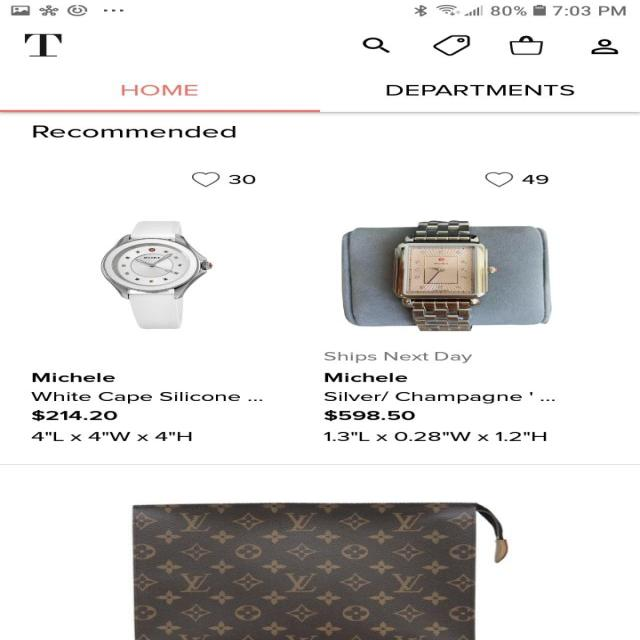Icon: (432, 35, 470, 56), (508, 36, 544, 55), (191, 171, 220, 187), (484, 172, 512, 187), (590, 39, 618, 54), (362, 38, 390, 53)
Image: (132, 502, 508, 640), (339, 220, 552, 332), (100, 222, 214, 329)
Text: (29, 391, 263, 404), (323, 391, 554, 404), (32, 125, 236, 138), (322, 431, 546, 441), (386, 85, 574, 96), (324, 351, 472, 363), (30, 431, 192, 441), (322, 410, 414, 421), (31, 410, 117, 421), (24, 34, 62, 57), (120, 85, 198, 96), (32, 372, 116, 382), (324, 373, 407, 382), (520, 174, 548, 184), (228, 174, 256, 184)
